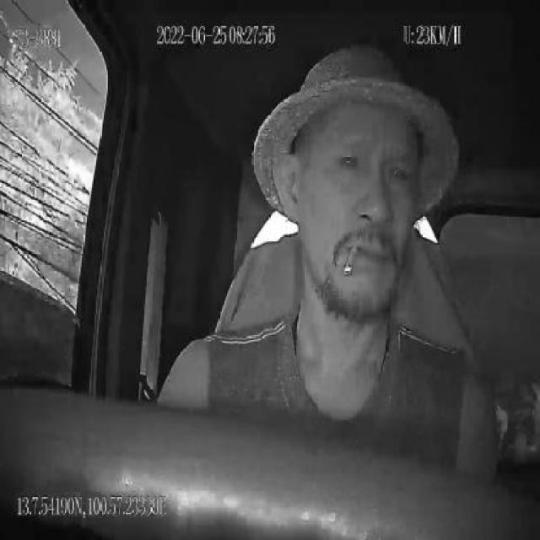smoking: (345, 239, 360, 280)
